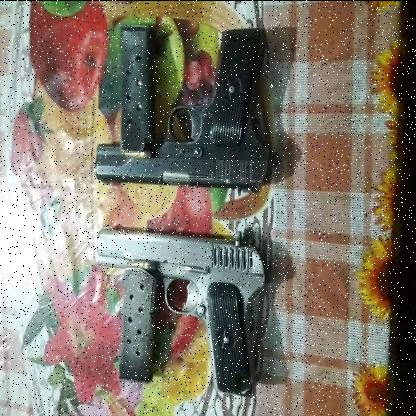rifle: (92, 19, 280, 199), (94, 223, 268, 401)
